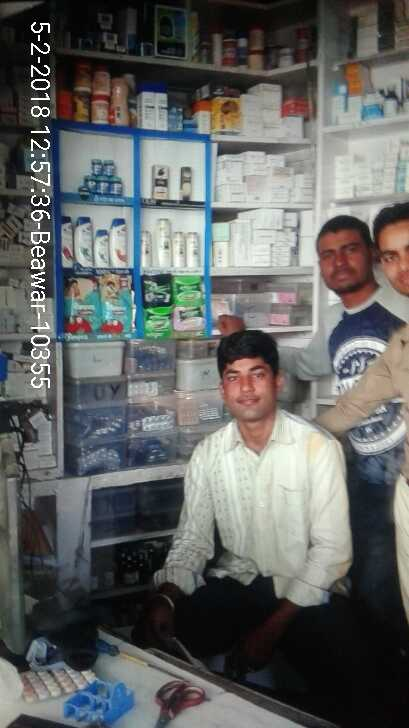vicks: (80, 157, 126, 198)
